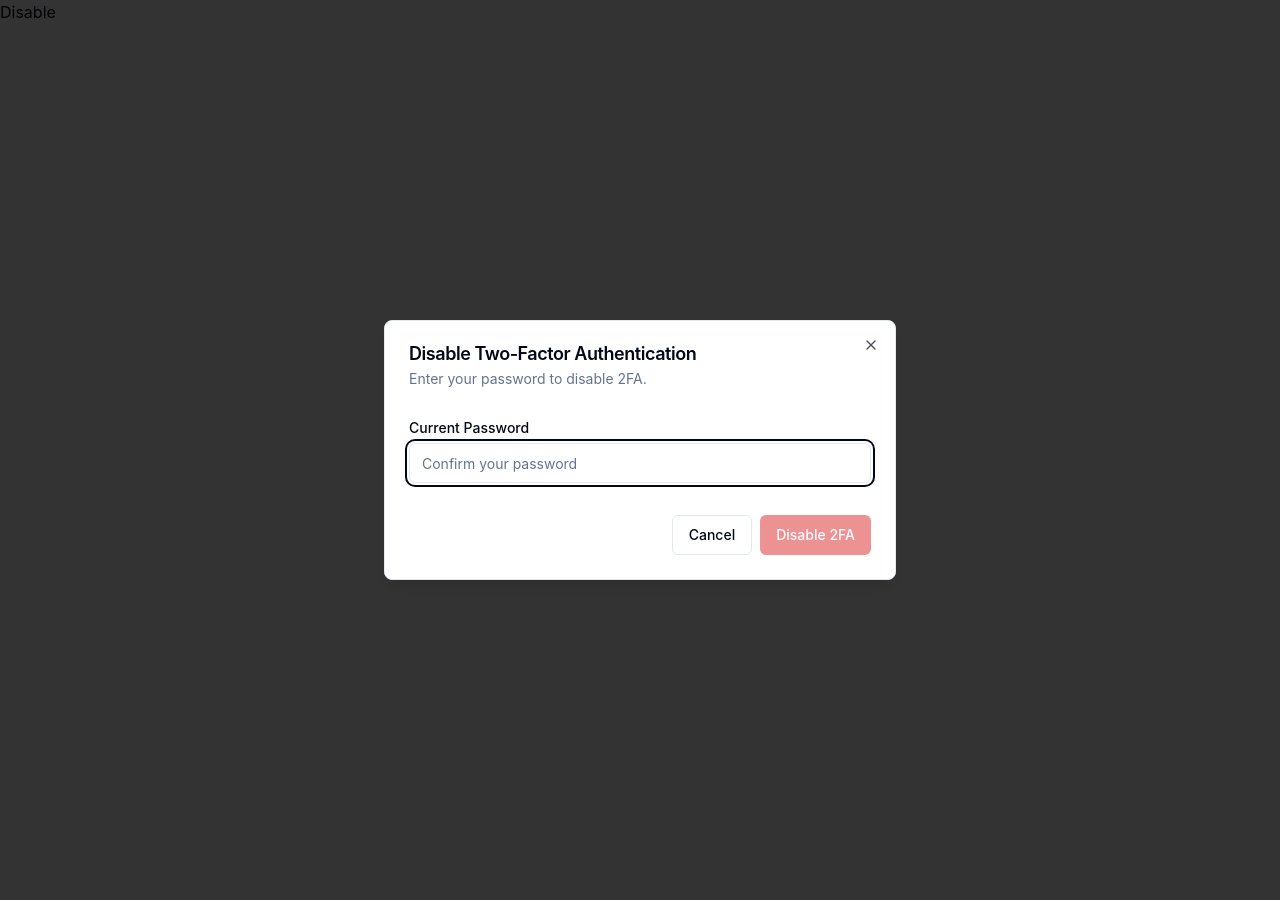
Scenario: TwoFADisableDialog › shows a wrong current password under its field and clears it once the field changes
This screenshot has width=1280, height=900.
Type "Correct-Horse-1" into the password field labelled "Current Password" at (640, 463), box [409,443,871,483]
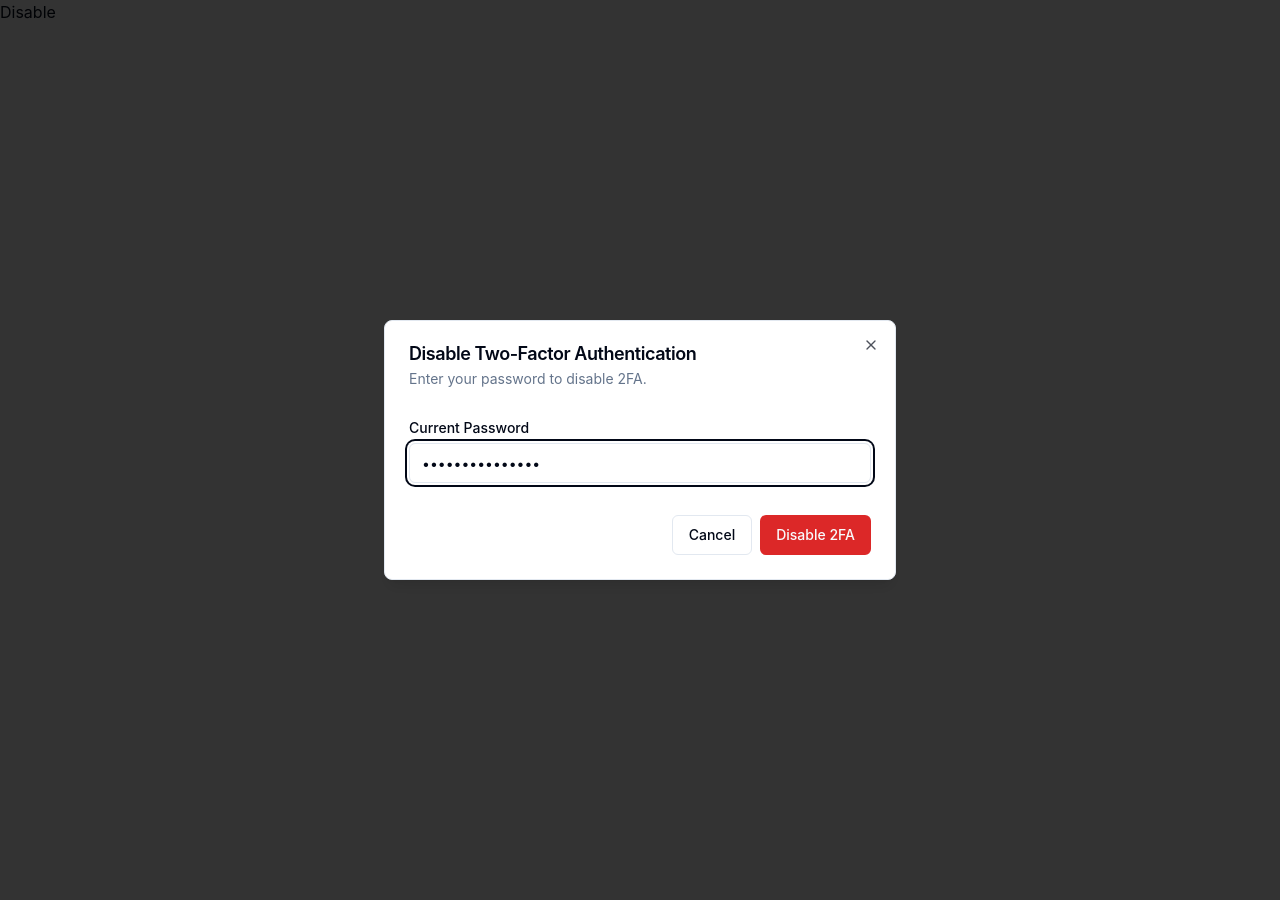
Click the button "Disable 2FA" at (816, 535), box [760,515,871,555]
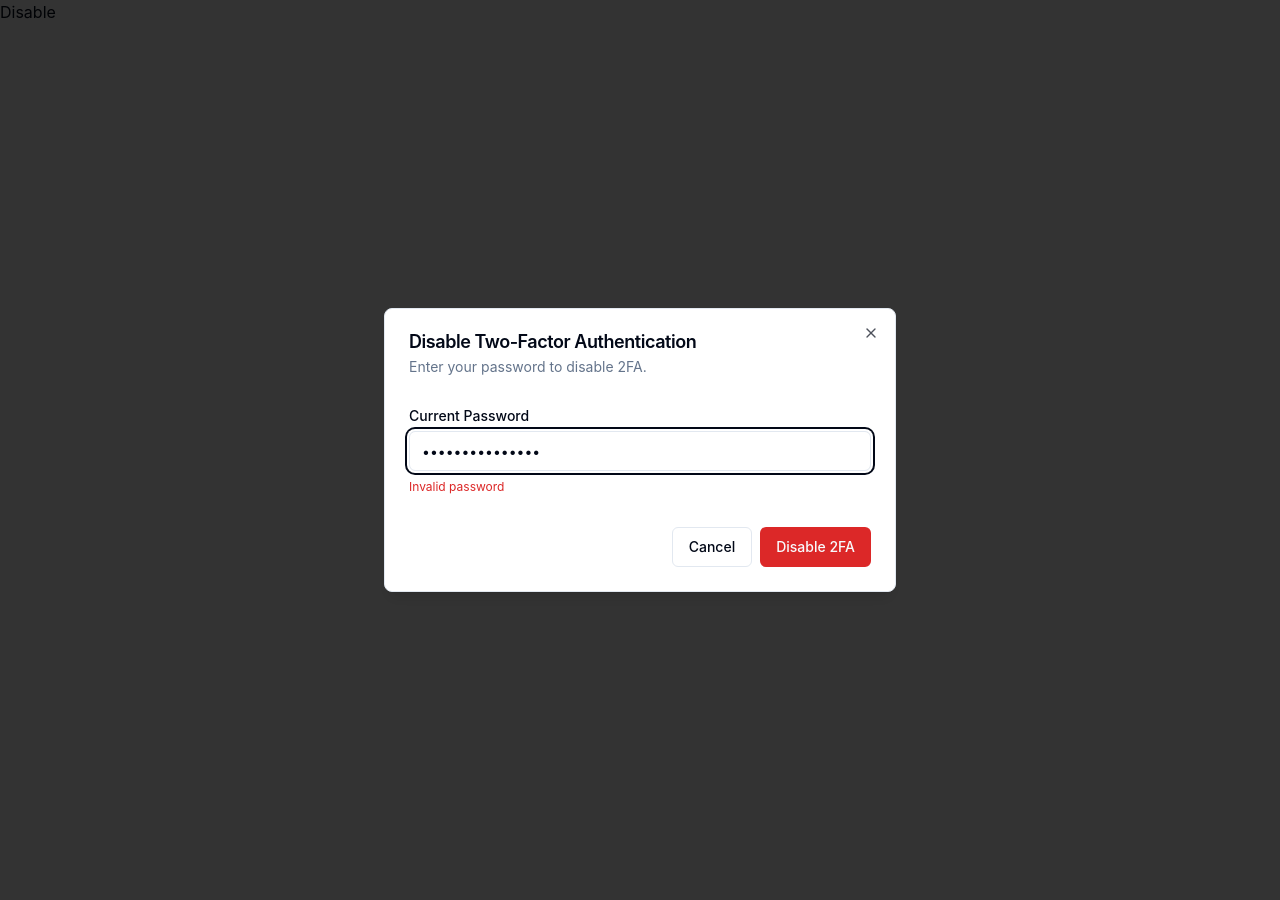
expect the message reads "Invalid password": met, box [409,479,504,494]
Type "Correct-Horse-2" into the password field labelled "Current Password" at (640, 451), box [409,431,871,471]
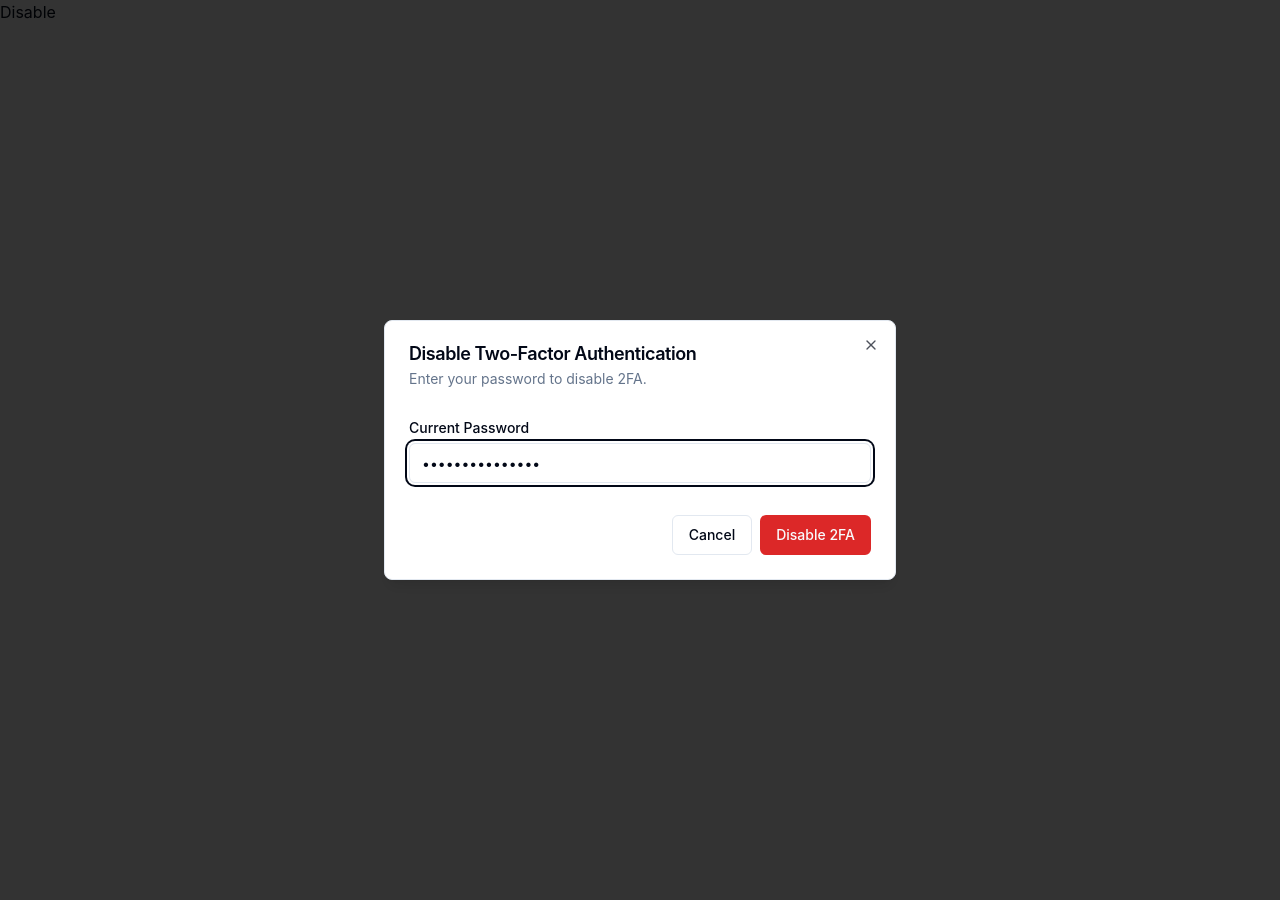
expect the message "Invalid password" is gone: met
